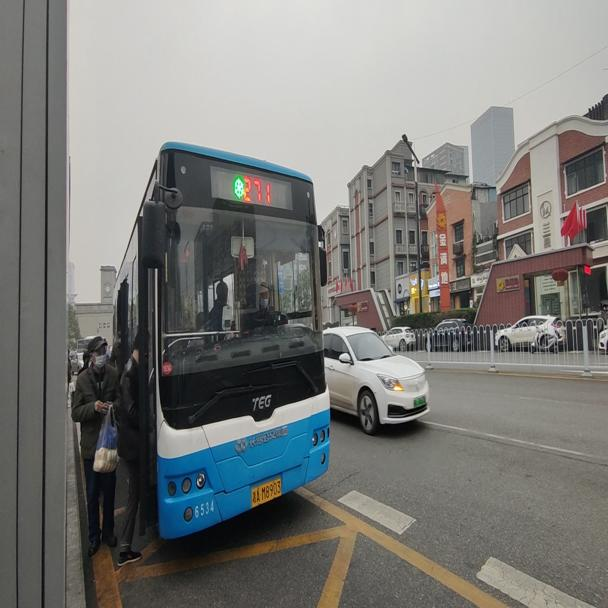bus: (111, 139, 330, 528)
screen: (243, 171, 276, 203)
